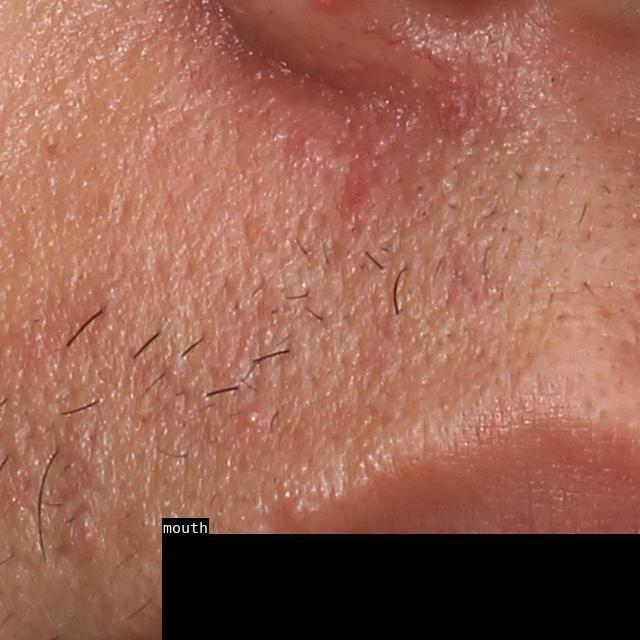comedo: (405, 179, 435, 200), (243, 409, 263, 428)
